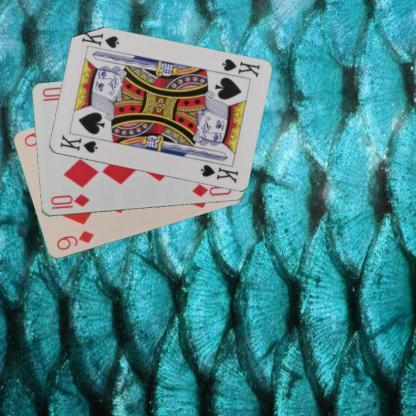10d: (48, 192, 91, 210)
9d: (54, 228, 95, 251)
Ks: (219, 56, 261, 79), (57, 132, 98, 155)
